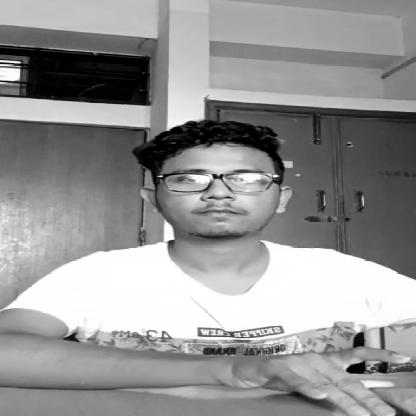Normal: (144, 125, 297, 239)
